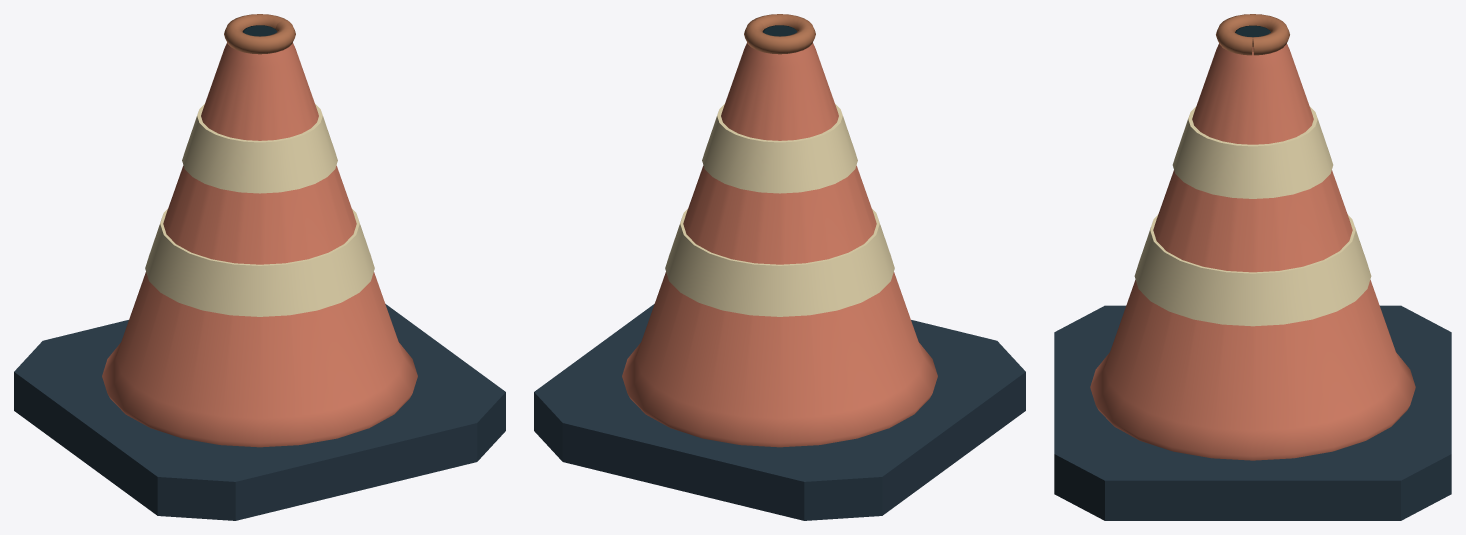
The picture shows the model from 3 angles, left to right: view 1: azimuth 30°, elevation 25°; view 2: azimuth 150°, elevation 25°; view 3: azimuth 270°, elevation 25°; orthographic projection. The views are drawn at different scales.
Visible parts, largest first — view 1: PR131 enamel and hardware; view 2: PR131 enamel and hardware; view 3: PR131 enamel and hardware.
Boxes of the visible parts, x1,y1,x2,y2 form: PR131 enamel and hardware: (14,14,505,520); PR131 enamel and hardware: (534,14,1025,520); PR131 enamel and hardware: (1054,14,1451,520).
Size of the model in its own units: 0.59 by 0.64 by 0.5659.
